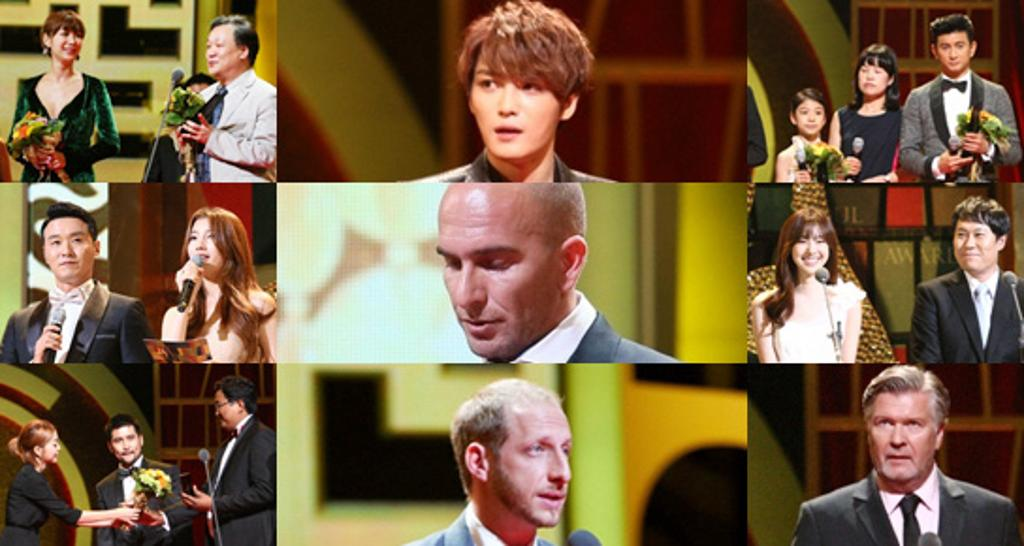face: (436, 184, 559, 356), (488, 405, 574, 524), (470, 61, 560, 159), (865, 392, 936, 481), (42, 218, 95, 280), (185, 218, 225, 273), (953, 219, 996, 270), (205, 24, 240, 74), (792, 228, 829, 272), (937, 31, 971, 71), (857, 62, 889, 96), (795, 98, 825, 134), (111, 425, 139, 463), (51, 26, 82, 60), (213, 387, 237, 430), (40, 430, 59, 461)
